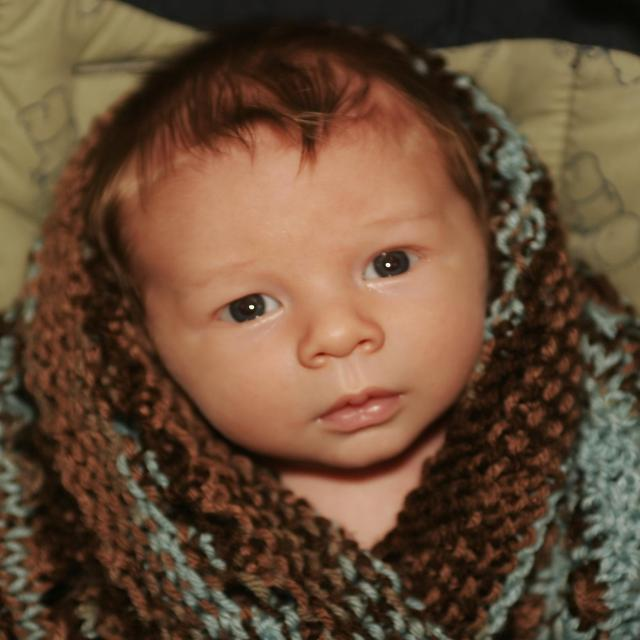no-glass: (213, 241, 428, 322)
